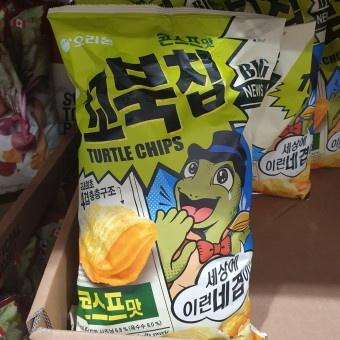snack: (47, 3, 288, 340)
